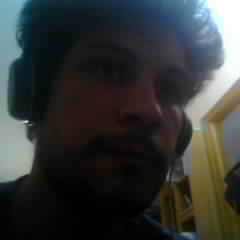without_mask: (49, 23, 189, 215)
